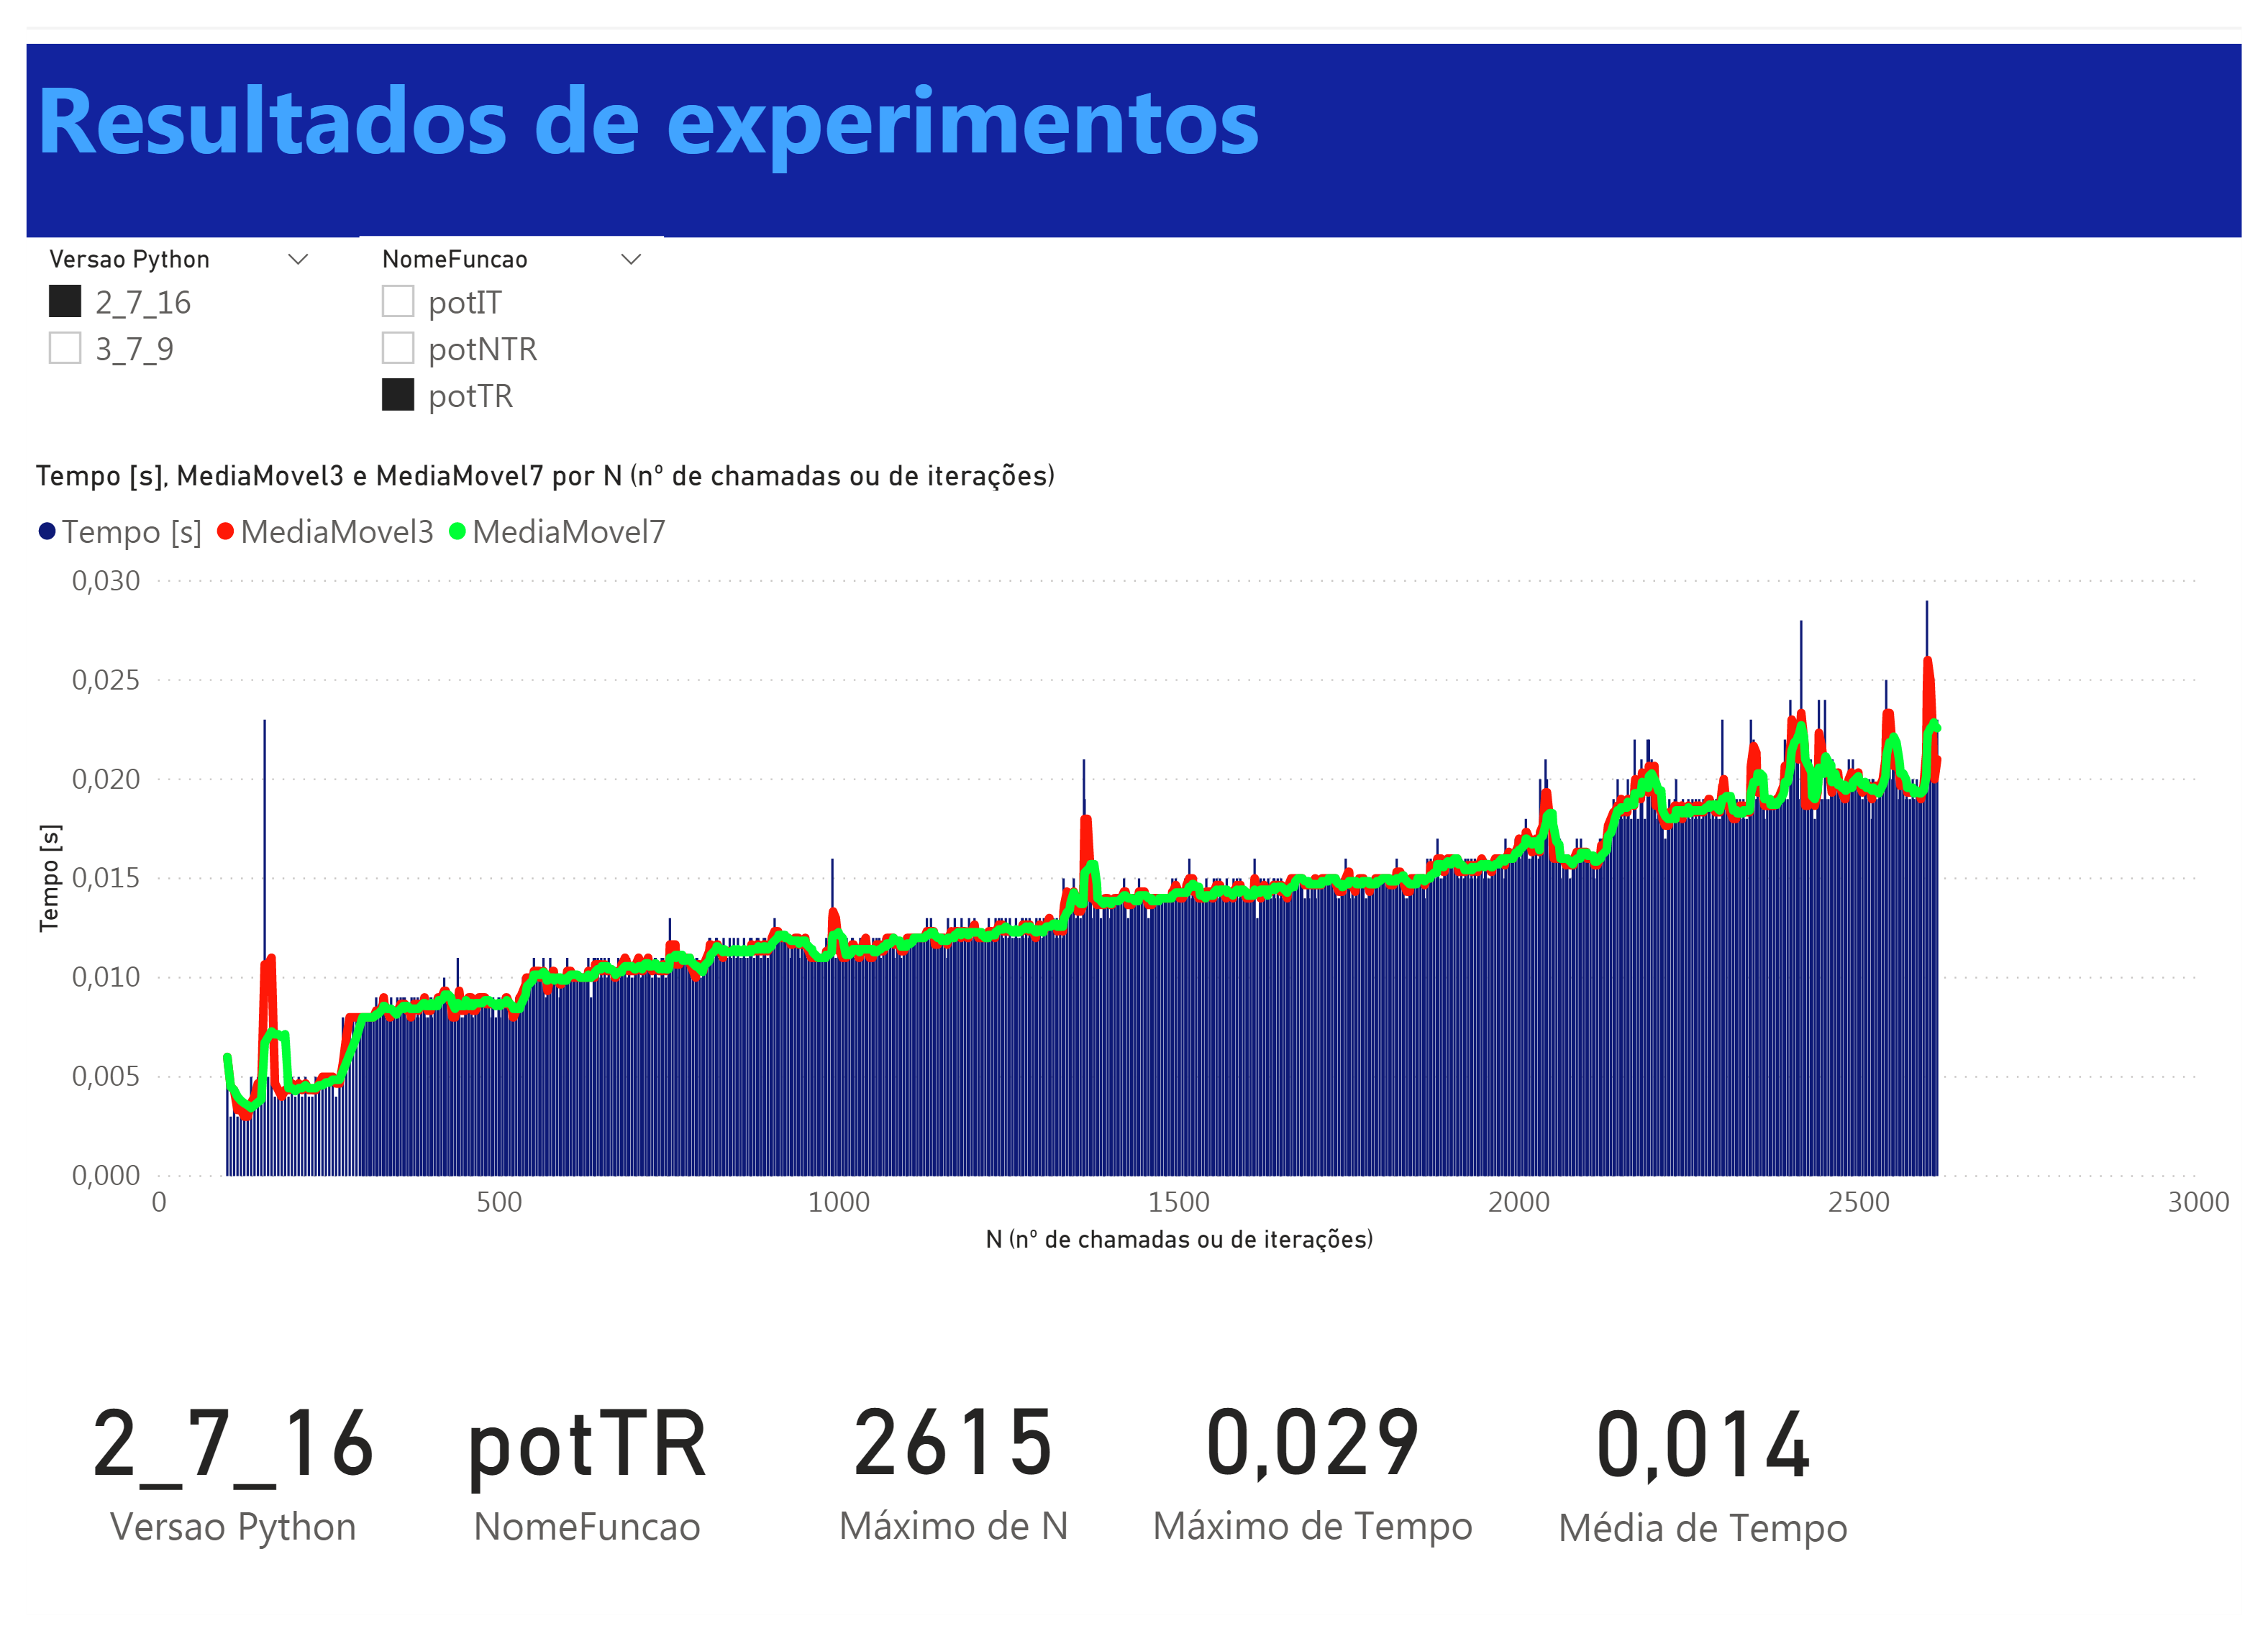

What the dashboard file says about the page in this screenshot:
{"tool":"powerbi","page":{"name":"Potenciação","canvas":[1280,900],"ordinal":4},"visuals":[{"type":"lineClusteredColumnComboChart","fields":{"Category":["Tabela1.N"],"Y":["Sum(Tabela1.Tempo)"],"Y2":["Tabela1.MediaMovel3","Tabela1.MediaMovel7"]},"box":[0,240,1280,464],"z":0},{"type":"card","fields":{"Values":["Max(Tabela1.Tempo)"]},"box":[640,736,208,160],"z":1000},{"type":"card","fields":{"Values":["Min(Tabela1.NomeFuncao)"]},"box":[216,744,216,144],"z":2000},{"type":"card","fields":{"Values":["Max(Tabela1.N)"]},"box":[432,736,208,160],"z":3000},{"type":"card","fields":{"Values":["Avg(Tabela1.Tempo)"]},"box":[848,752,240,128],"z":4000},{"type":"slicer","fields":{"Values":["Tabela1.Versao Python"]},"box":[0,112,176,112],"z":5000},{"type":"card","fields":{"Values":["Min(Tabela1.Versao Python)"]},"box":[24,744,192,144],"z":6000},{"type":"textbox","box":[0,0,1280,112],"z":7000},{"type":"slicer","fields":{"Values":["Tabela1.NomeFuncao"]},"box":[192,112,176,112],"z":8000}]}

Visuals, with their boxes in screenshot pixels (x1, y1, x2, y2), scaled from the page's 1280x900 canvas onto the 2268x1641 screenshot:
lineClusteredColumnComboChart - Tabela1.N x Sum(Tabela1.Tempo): {"x1": 0, "y1": 438, "x2": 2267, "y2": 1284}
card - Max(Tabela1.Tempo): {"x1": 1134, "y1": 1342, "x2": 1503, "y2": 1634}
card - Min(Tabela1.NomeFuncao): {"x1": 383, "y1": 1356, "x2": 765, "y2": 1619}
card - Max(Tabela1.N): {"x1": 765, "y1": 1342, "x2": 1134, "y2": 1634}
card - Avg(Tabela1.Tempo): {"x1": 1503, "y1": 1371, "x2": 1928, "y2": 1604}
slicer - Tabela1.Versao Python: {"x1": 0, "y1": 204, "x2": 312, "y2": 408}
card - Min(Tabela1.Versao Python): {"x1": 42, "y1": 1356, "x2": 383, "y2": 1619}
textbox: {"x1": 0, "y1": 0, "x2": 2267, "y2": 204}
slicer - Tabela1.NomeFuncao: {"x1": 340, "y1": 204, "x2": 652, "y2": 408}
